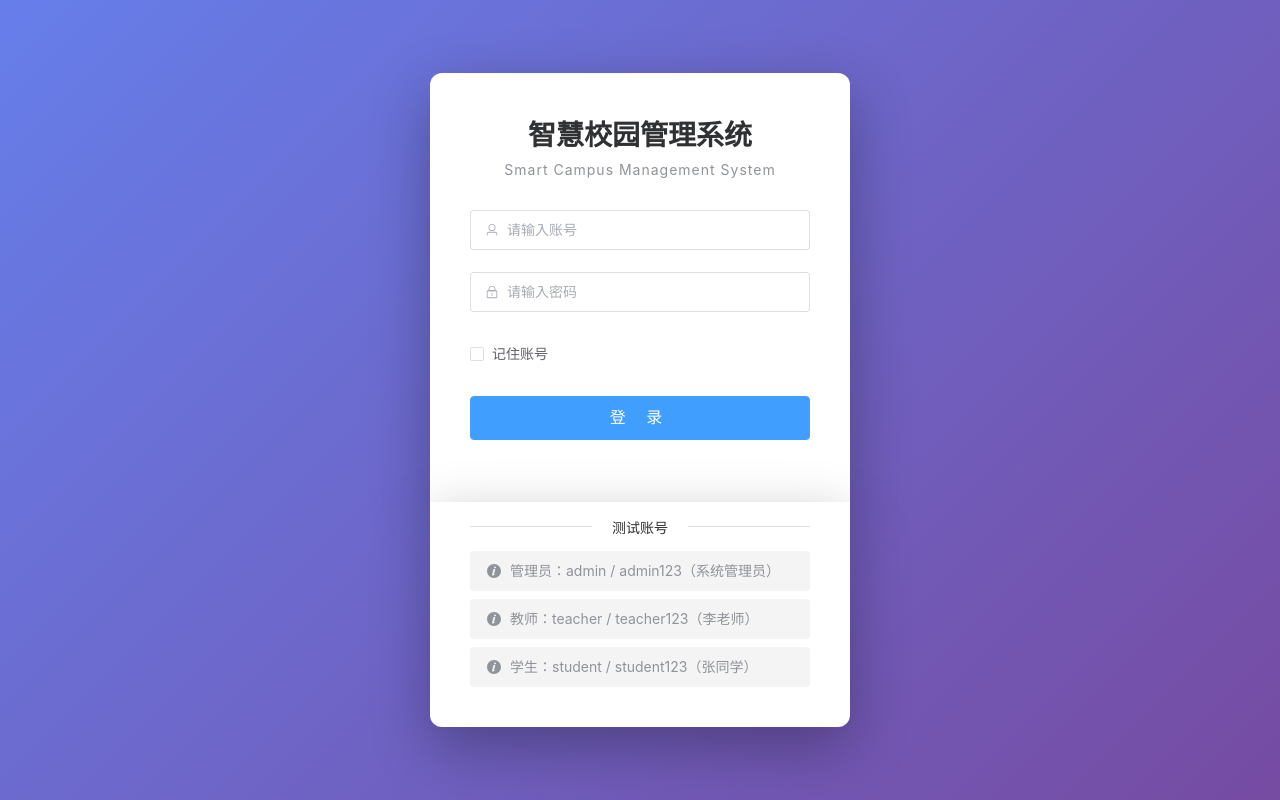
Test: Login.vue - 测试账号一键填入回归测试 › 点击测试账号仅填入账号密码，不触发登录 › 点击教师账号：填入 teacher/teacher123，未触发登录
Expected: the element with class "login-card" is shown, [430,73,850,502]
Click the message "教师：teacher / teacher123（李老师）" at [640, 619], box [470,599,810,639]
Wait 1100 ms
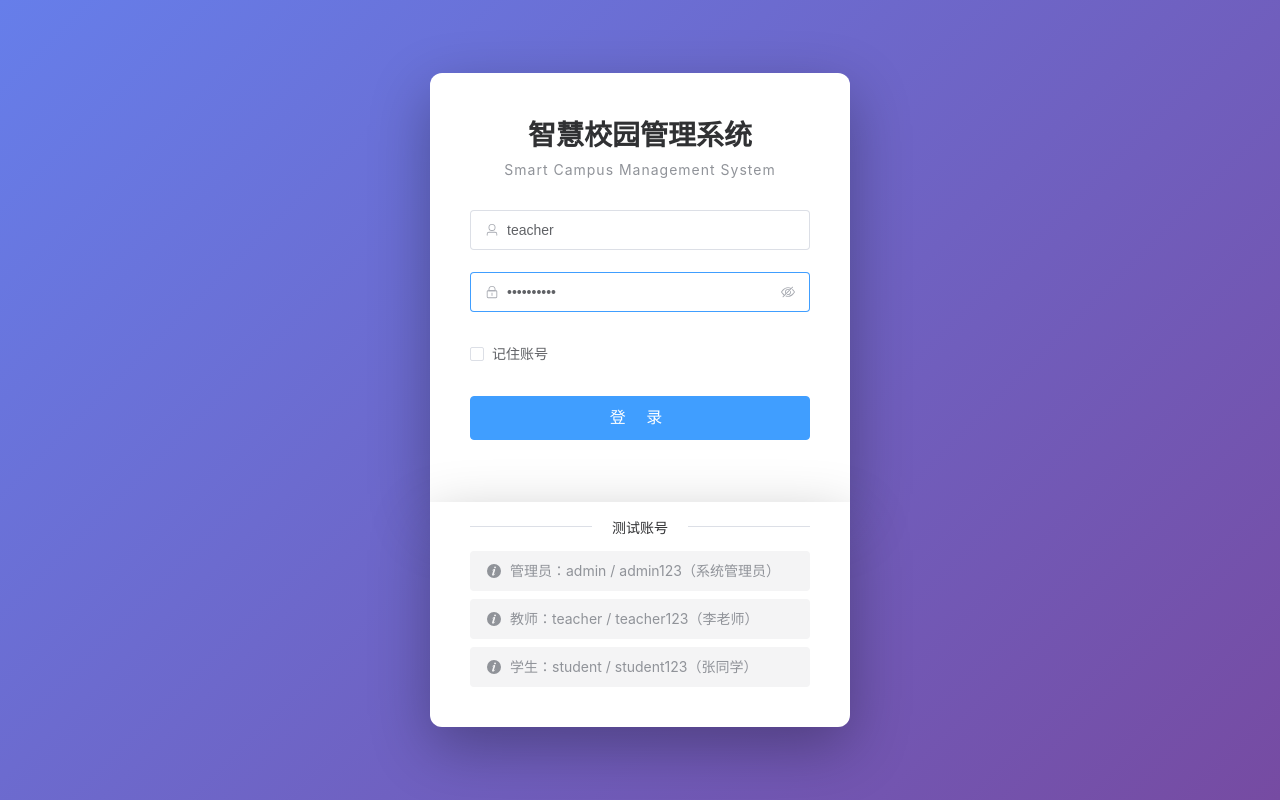
Expected: the element with class "login-card" is shown, [430,73,850,502]
Now the field holds "teacher", box [507,211,795,249]
Now the password field holds "teacher123", box [507,273,773,311]
